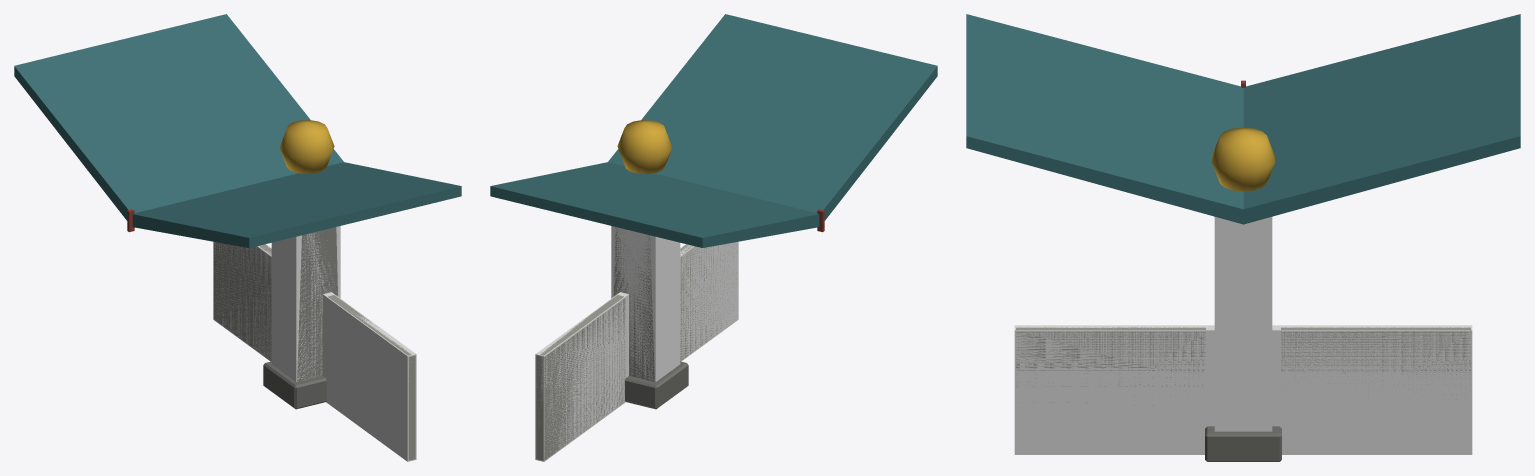
File: stop-6.glb
3 renders of one model, left to right at view 1: azimuth 30°, elevation 25°; view 2: azimuth 150°, elevation 25°; view 3: azimuth 270°, elevation 25°, orthographic. The views are drawn at different scales.
Parts seen in each view (by area): view 1: 01_paint0, solid.001, 05_#9a9a92, solid, 00_#85857f, 03_#c9a13a, 04_#6e6e6a; view 2: 01_paint0, solid.001, 05_#9a9a92, solid, 00_#85857f, 03_#c9a13a, 04_#6e6e6a; view 3: 01_paint0, solid.001, solid, 05_#9a9a92, 03_#c9a13a, 04_#6e6e6a.
Part boxes in pixels (x1,y1,x2,y2): 01_paint0: (14,14,461,247); solid.001: (213,241,416,461); 05_#9a9a92: (214,242,415,460); solid: (271,226,340,381); 00_#85857f: (297,227,337,381); 03_#c9a13a: (279,120,334,174); 04_#6e6e6a: (263,361,326,409); 01_paint0: (490,14,937,247); solid.001: (535,241,738,461); 05_#9a9a92: (536,244,736,460); solid: (611,226,680,381); 00_#85857f: (614,227,654,381); 03_#c9a13a: (617,120,672,174); 04_#6e6e6a: (625,361,688,409); 01_paint0: (966,14,1520,224); solid.001: (1014,325,1472,454); solid: (1214,217,1272,431); 05_#9a9a92: (1016,327,1470,405); 03_#c9a13a: (1211,127,1275,191); 04_#6e6e6a: (1205,426,1281,461).
Size of the model in its own units: 2.44 by 3.05 by 4.6.
